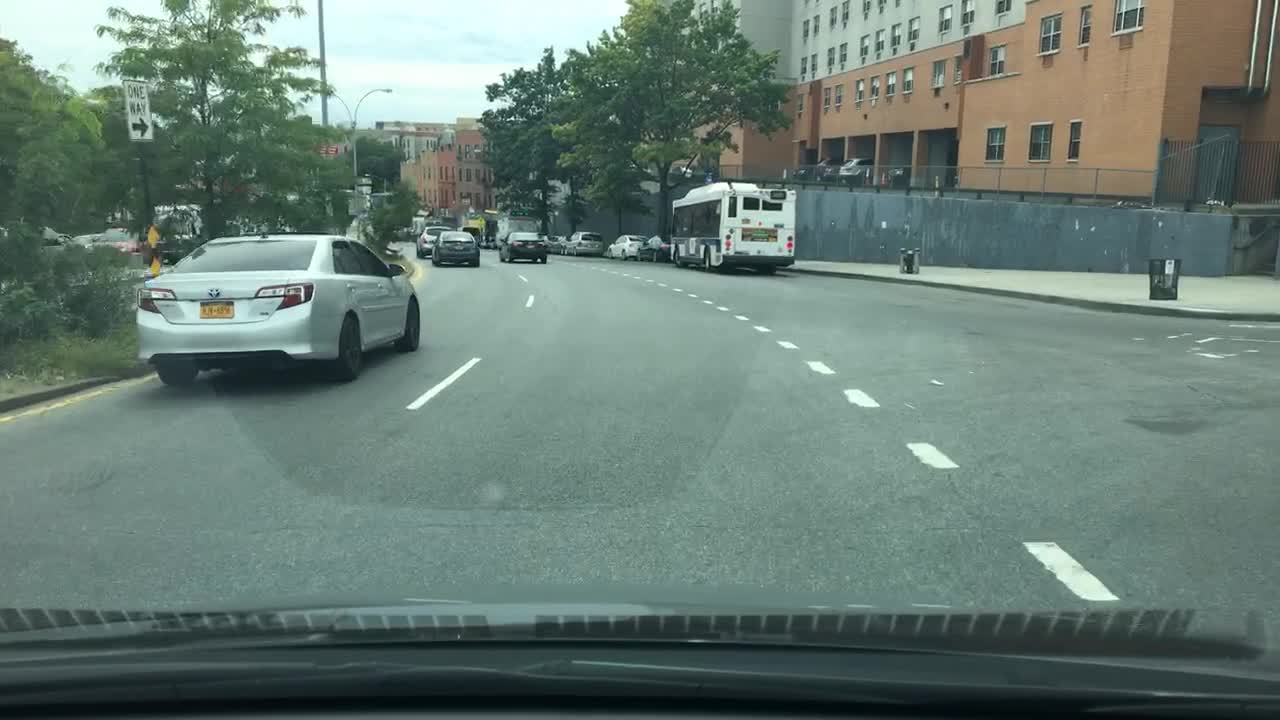bus: (670, 181, 798, 274), (153, 203, 201, 238)
car: (133, 231, 421, 388), (1, 220, 71, 253), (496, 229, 549, 266), (430, 231, 481, 269), (72, 229, 140, 251), (842, 157, 895, 185), (792, 158, 842, 181), (566, 229, 603, 256), (607, 234, 649, 257), (640, 238, 677, 262), (456, 222, 481, 246), (822, 162, 852, 182), (416, 240, 451, 256), (541, 234, 567, 253), (478, 234, 499, 246)
traffic sign: (122, 80, 153, 140), (145, 227, 159, 248), (146, 256, 160, 276), (318, 143, 337, 155), (704, 172, 713, 184)
